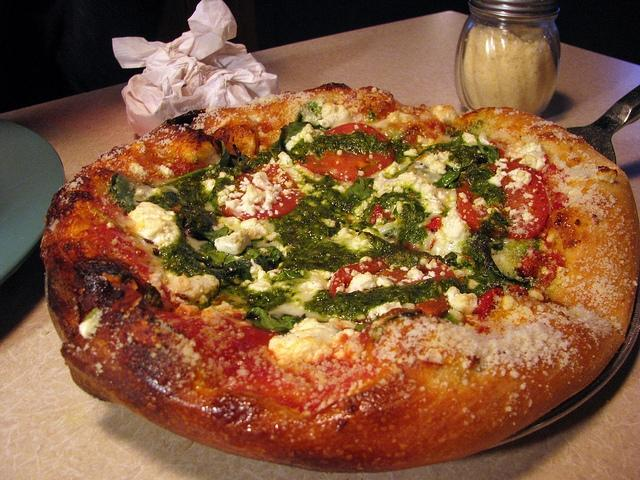tomato: (456, 159, 549, 239), (295, 123, 395, 182), (329, 256, 456, 298), (220, 164, 304, 221)
